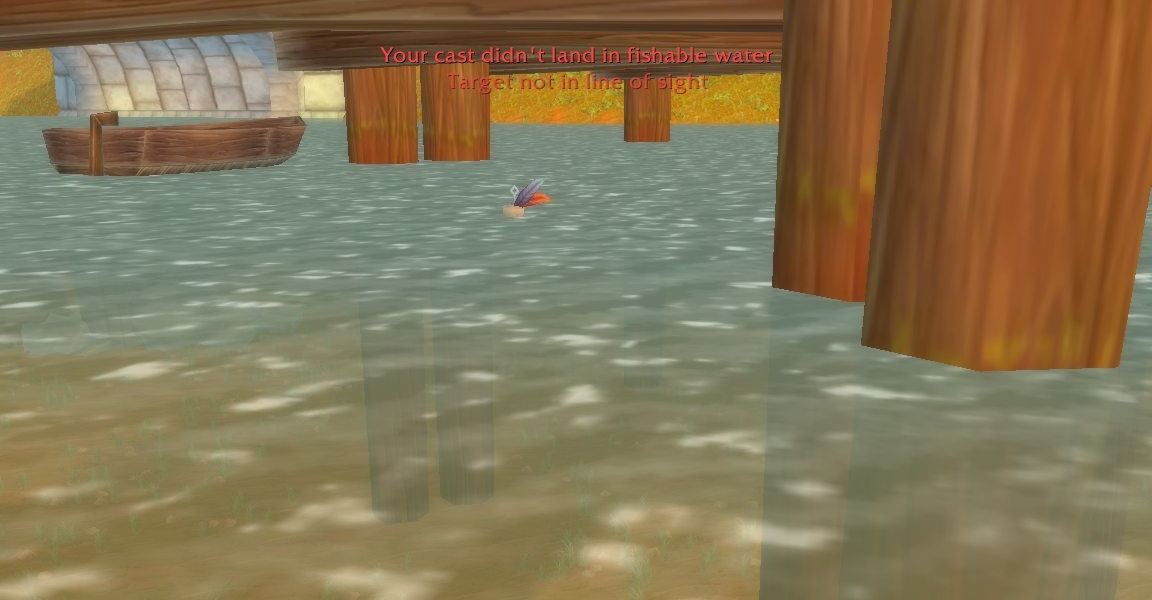Bobber: (498, 173, 554, 221)
